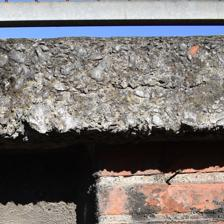Crack: (29, 37, 182, 63)
